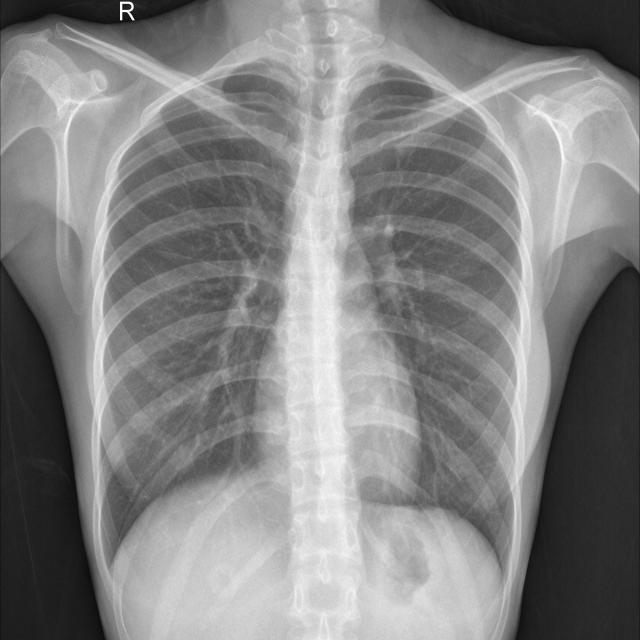no-pneumonia: (100, 62, 300, 538), (347, 66, 524, 556)
